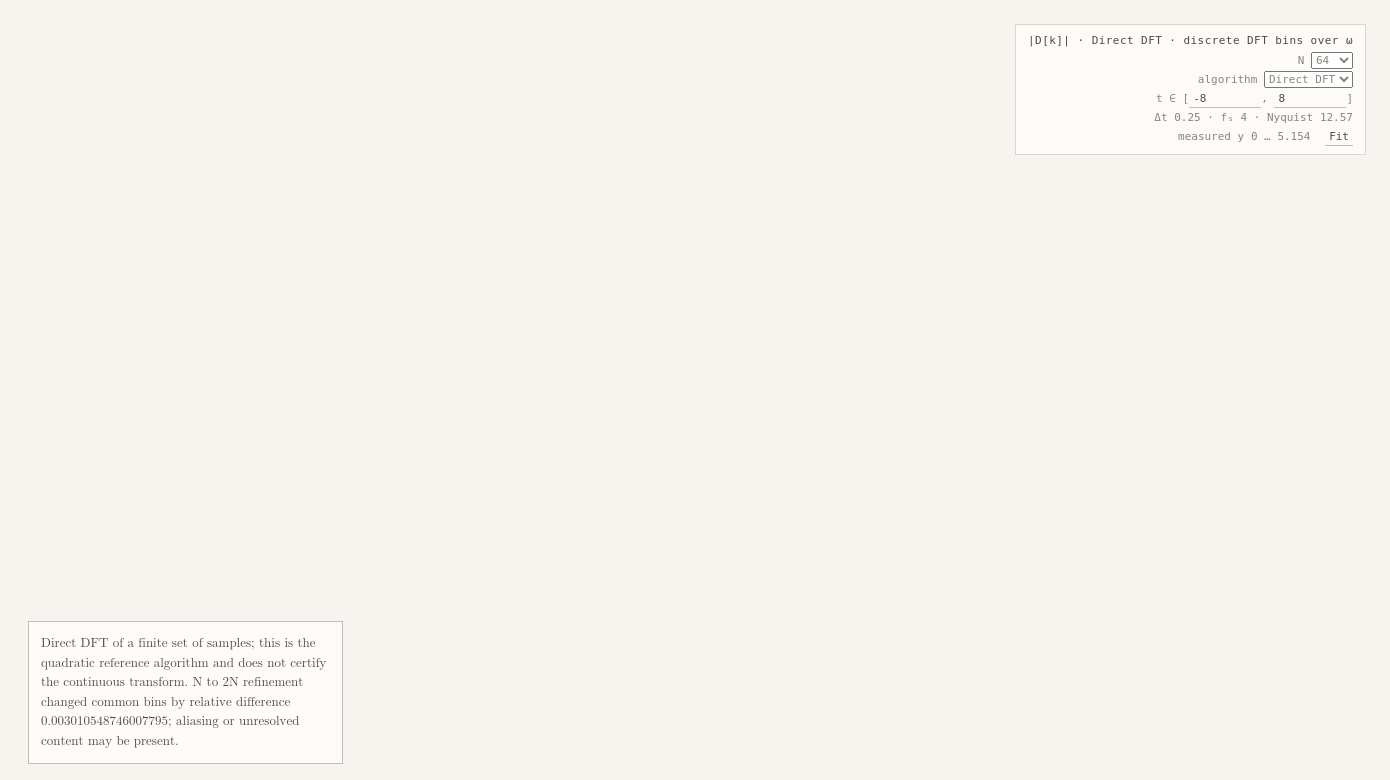
DFT domain sampling controls › rejects an invalid window without changing the shared sampling state
The image size is (1390, 780).
Replace the text in the number field named "DFT time window minimum" with "10" at (1225, 99), box x1=1189 y1=90 x2=1261 y2=108
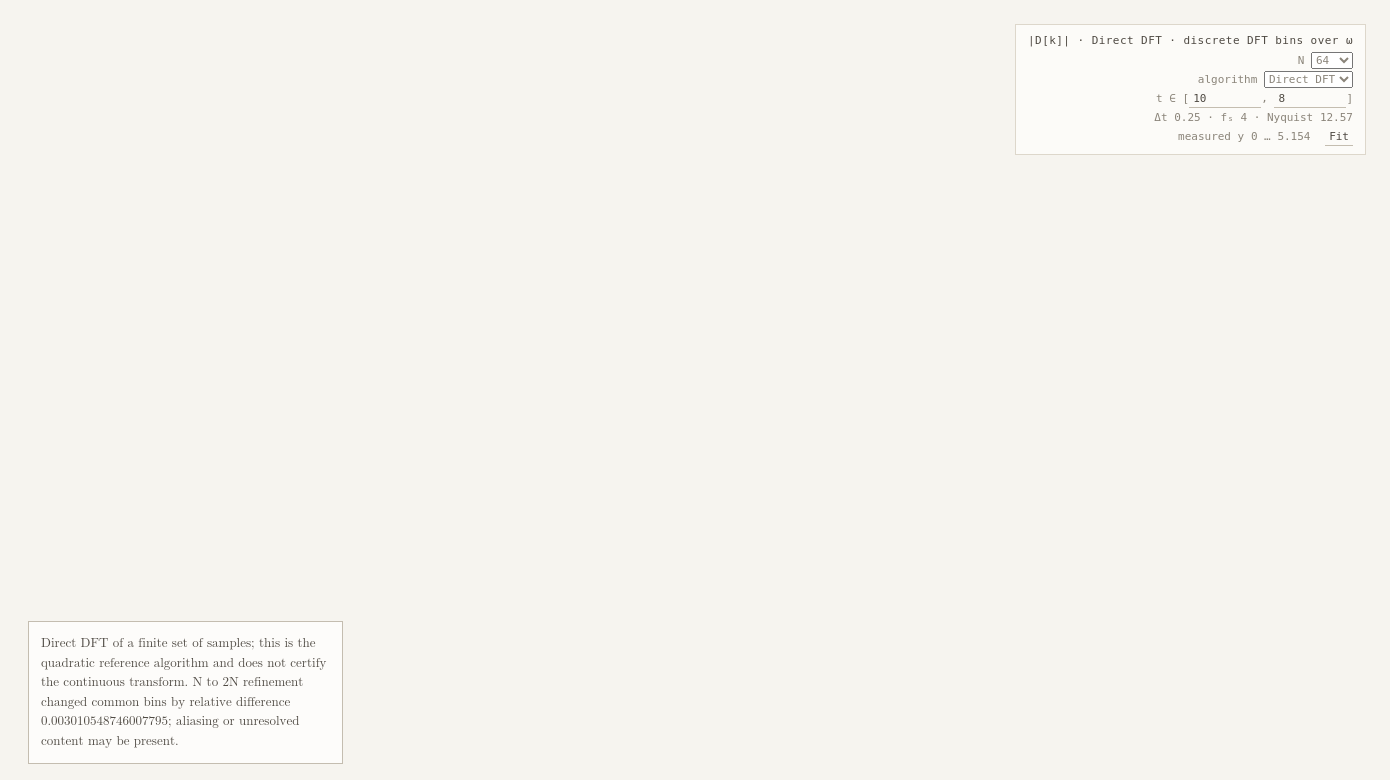
Leave the number field named "DFT time window minimum", box x1=1189 y1=90 x2=1261 y2=108
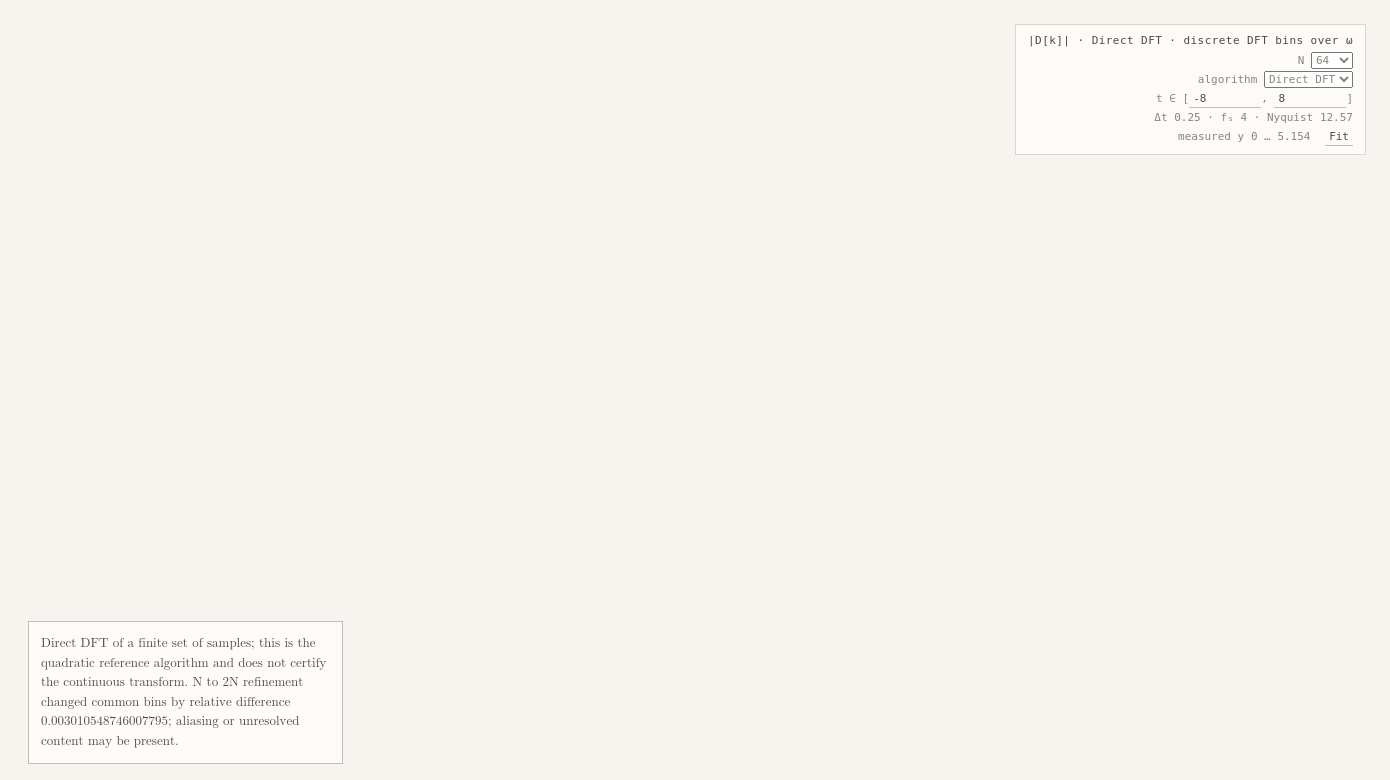
Check: the number field named "DFT time window maximum" holds "8", box x1=1274 y1=90 x2=1346 y2=108
Check: the number field named "DFT time window minimum" holds "-8", box x1=1189 y1=90 x2=1261 y2=108
